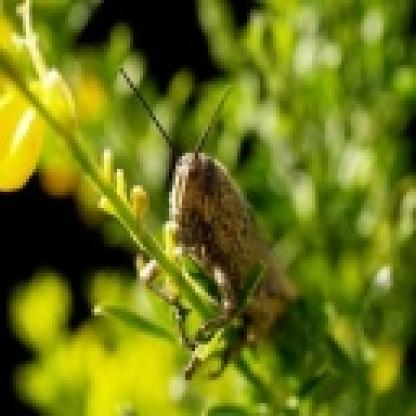grasshopper: (119, 69, 305, 379)
